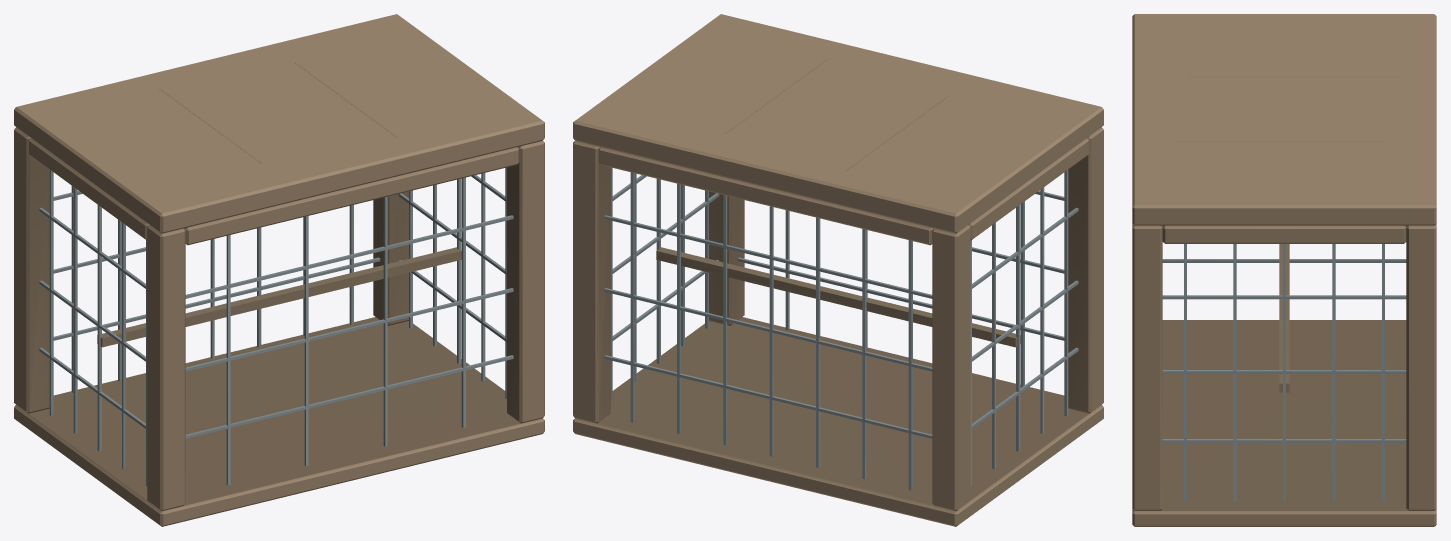
The model's file is furn_insect_case_desk__walnut.glb.
The picture shows the model from 3 angles, left to right: view 1: azimuth 30°, elevation 25°; view 2: azimuth 150°, elevation 25°; view 3: azimuth 270°, elevation 25°; orthographic projection. The views are drawn at different scales.
Size of the model in its own units: 0.36 by 0.2801 by 0.24.
